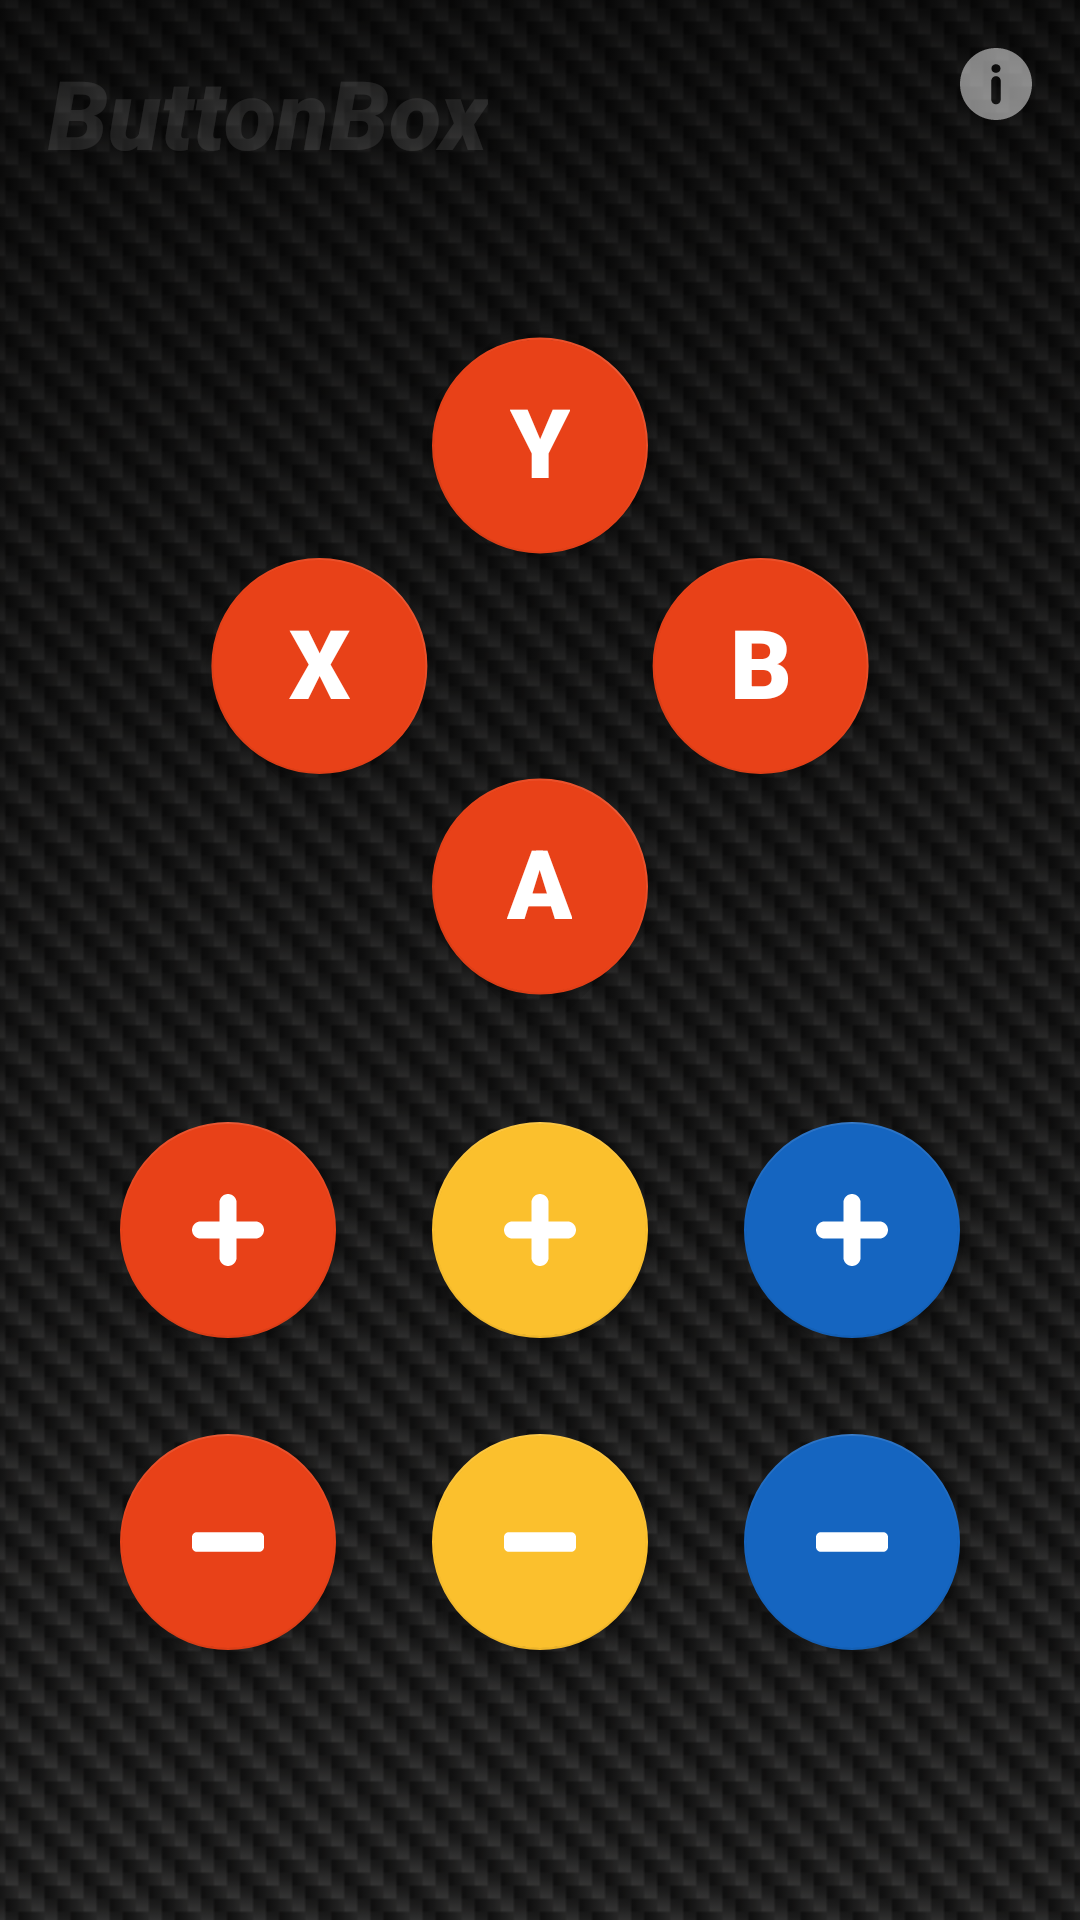

Where to tap for icons on this 1080w x 1920h app screen, as point (x, y):
info: point (996, 84)
minus: point (228, 1542), point (540, 1542), point (852, 1542)
plus: point (228, 1230), point (540, 1230), point (852, 1230)
